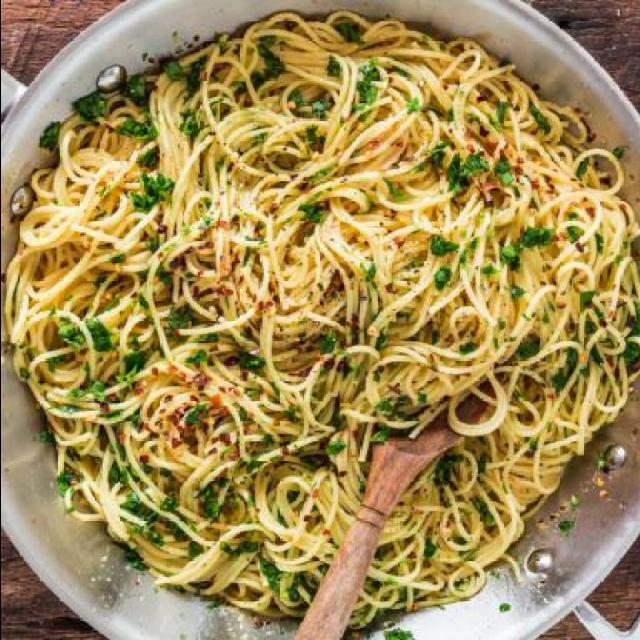Oil pasta: (19, 34, 615, 640)
